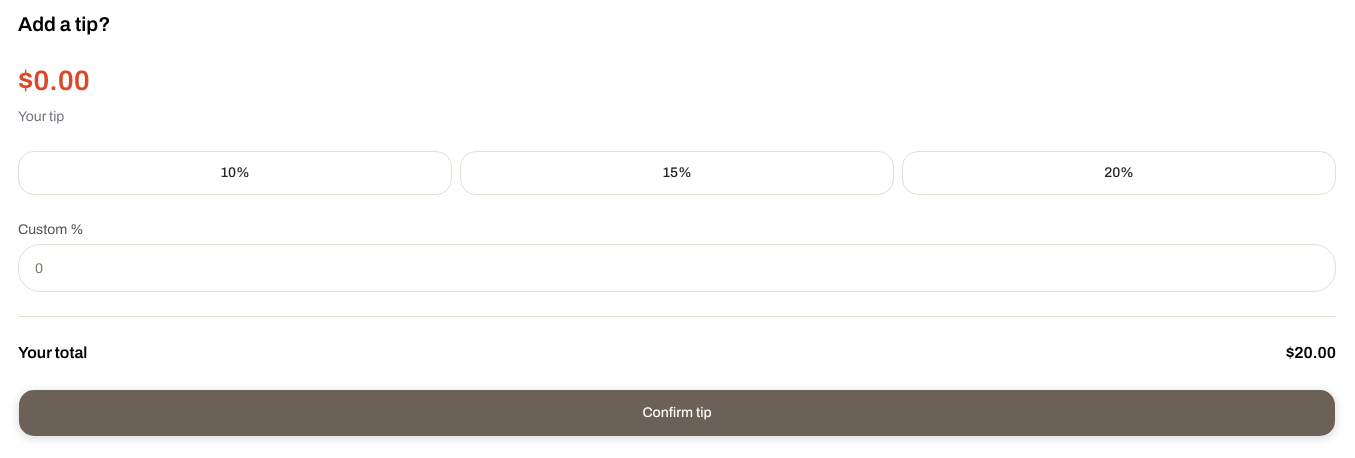
Test: TipScreen › Test 4 (total preview includes tip)
The image size is (1355, 458).
Click the button named "Set tip to 10%": (235,173) [18, 151, 452, 195]
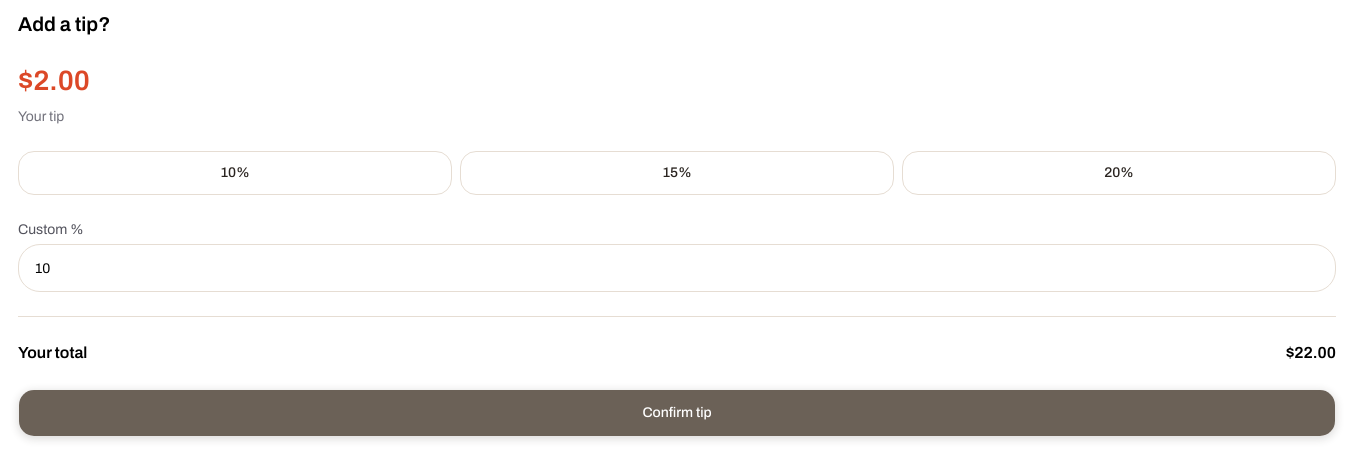
Result: the text with test id "tip-total-display" reads "$22.00" at [1286, 344, 1336, 361]
